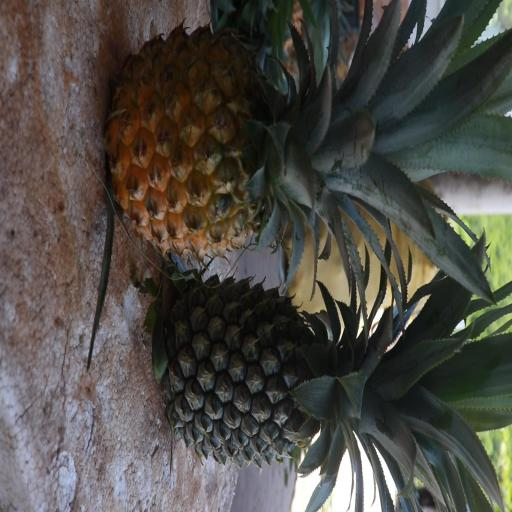Pineapple - v8 v1: (119, 38, 450, 260)
